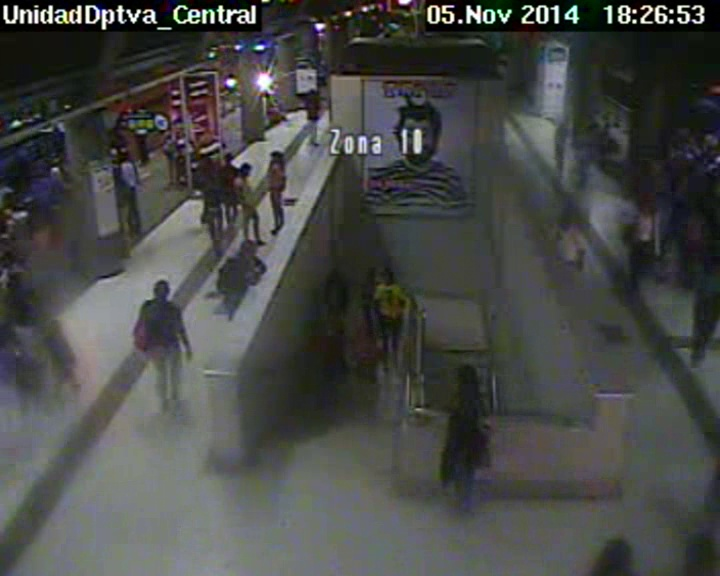person: (454, 360, 482, 392), (236, 239, 257, 260), (153, 279, 171, 299), (675, 173, 692, 193), (357, 316, 373, 335), (318, 312, 334, 331), (19, 309, 34, 329), (557, 210, 574, 226), (1, 246, 16, 264), (688, 200, 703, 216), (363, 267, 377, 283), (34, 160, 48, 176), (706, 254, 720, 270), (270, 150, 284, 164), (640, 198, 654, 212), (118, 147, 132, 161), (2, 219, 16, 233), (655, 178, 669, 192), (646, 160, 660, 174), (5, 191, 20, 204), (382, 270, 394, 286), (206, 173, 219, 187), (327, 268, 340, 281), (240, 163, 253, 176), (579, 120, 590, 132), (224, 151, 235, 162), (2, 207, 13, 218), (557, 118, 567, 129), (112, 117, 123, 127), (165, 122, 173, 131), (613, 121, 621, 129), (264, 91, 271, 98), (310, 88, 315, 95)
